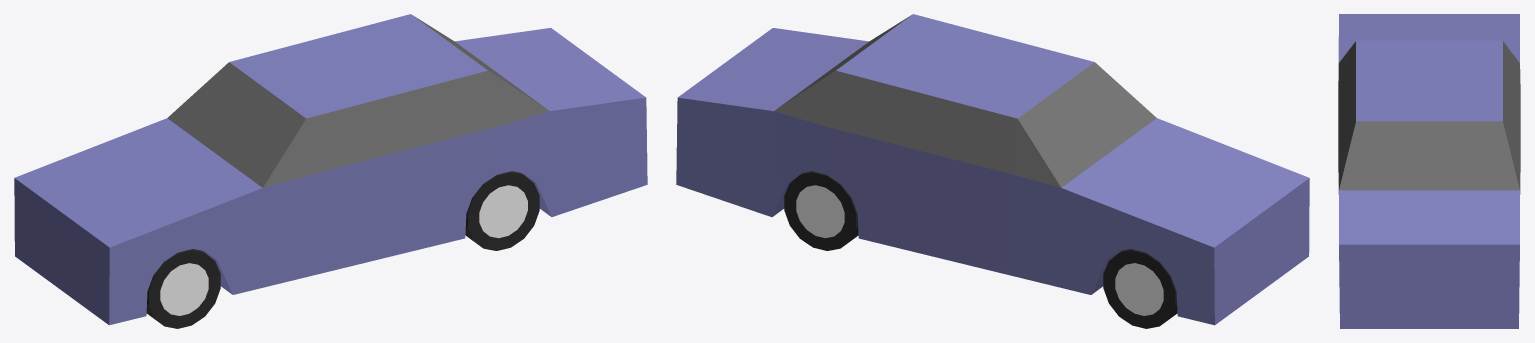
File: volvo240.glb
3 renders of one model, left to right at view 1: azimuth 30°, elevation 25°; view 2: azimuth 150°, elevation 25°; view 3: azimuth 270°, elevation 25°, orthographic. The views are drawn at different scales.
Parts seen in each view (by area): view 1: Cube, Cube.001, Cylinder.001, Cylinder.002, Cylinder.007, Cylinder.006; view 2: Cube, Cube.001, Cylinder.003, Cylinder.004, Cylinder.005, Cylinder.008; view 3: Cube, Cube.001.
Boxes of the visible parts, left/top/right/bottom form: Cube: left=14, top=14, right=647, bottom=325; Cube.001: left=167, top=15, right=549, bottom=187; Cylinder.001: left=146, top=249, right=220, bottom=328; Cylinder.002: left=465, top=171, right=539, bottom=250; Cylinder.007: left=479, top=185, right=527, bottom=238; Cylinder.006: left=160, top=263, right=208, bottom=315; Cube: left=676, top=14, right=1309, bottom=325; Cube.001: left=774, top=15, right=1156, bottom=187; Cylinder.003: left=784, top=171, right=858, bottom=250; Cylinder.004: left=1103, top=249, right=1177, bottom=328; Cylinder.005: left=796, top=185, right=844, bottom=238; Cylinder.008: left=1115, top=263, right=1163, bottom=315; Cube: left=1338, top=14, right=1520, bottom=328; Cube.001: left=1338, top=41, right=1520, bottom=190.
Bounding box in the file's own units: 14.43 × 4.47 × 4.45.
